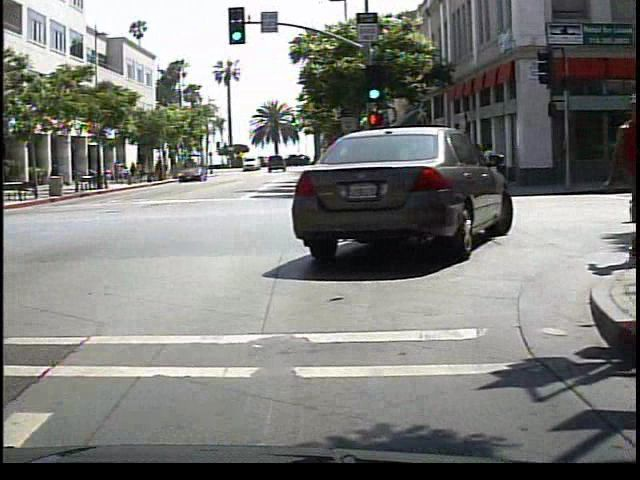person: (44, 159, 61, 191)
